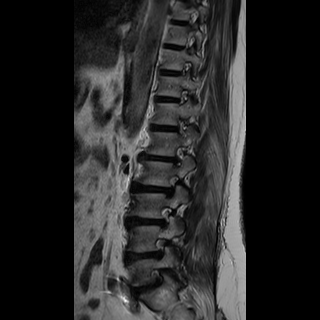LFS0: (162, 142, 192, 170)
LFS1: (144, 232, 175, 264), (149, 202, 178, 232)
LFS3: (162, 171, 188, 202)
